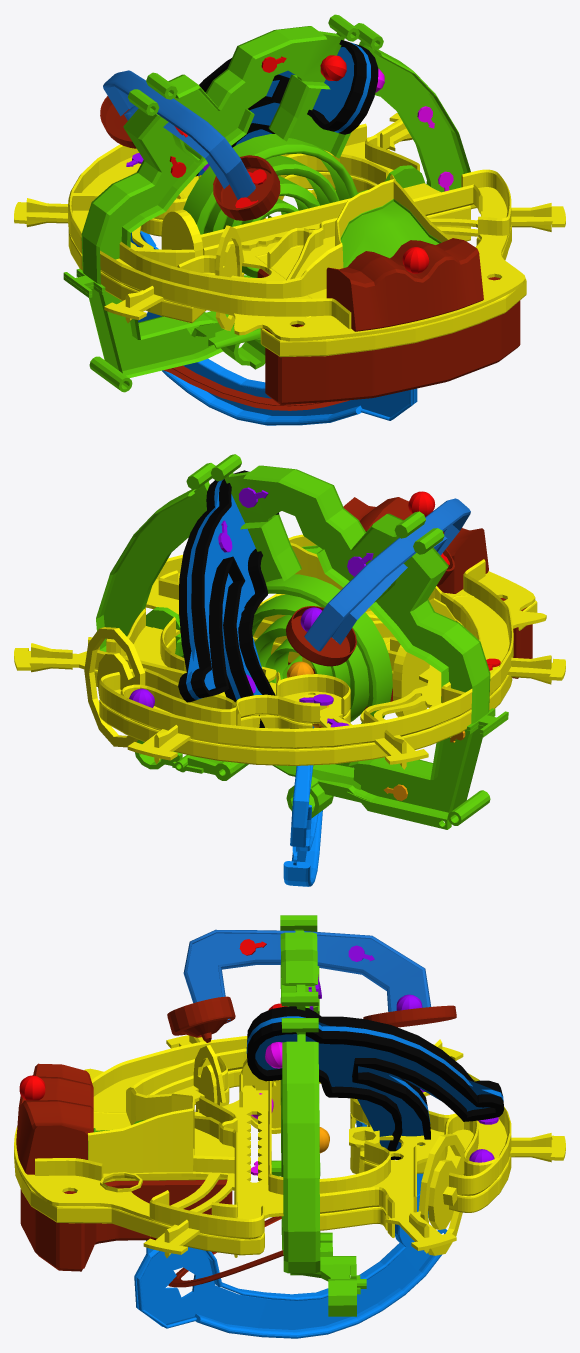
File: Maze_Ball_Test_13.0.fbx
3 views of the same model, one above another, from view 1: azimuth 30°, elevation 25°; view 2: azimuth 150°, elevation 25°; view 3: azimuth 270°, elevation 25° (orthographic).
Visible parts, largest first — view 1: Yellow, Green, Back_Red_Part, Start_Red_Part, Blue, Blue_Part, Block, Blue_Part_3_Wall, Beside, Red_Line, Beside_1, pSphere1 (+1 smaller); view 2: Green, Yellow, Blue_Part, Blue, Start_Red_Part, Blue_Part_3_Wall, Beside_1, Block, Back_Red_Part; view 3: Yellow, Blue, Blue_Part, Green, Block, Start_Red_Part, Back_Red_Part, Blue_Part_3_Wall, Beside, Beside_1, Red_Line, pSphere1.
Boxes of the visible parts, x1,y1,x2,y2 form: Yellow: [14, 113, 565, 356]; Green: [63, 14, 470, 392]; Back_Red_Part: [257, 269, 520, 404]; Start_Red_Part: [326, 238, 483, 331]; Blue: [103, 70, 415, 419]; Blue_Part: [195, 40, 378, 176]; Block: [335, 178, 450, 267]; Blue_Part_3_Wall: [140, 231, 417, 425]; Beside: [213, 155, 280, 220]; Red_Line: [164, 365, 349, 410]; Beside_1: [100, 96, 136, 148]; pSphere1: [402, 247, 429, 273]; Green: [96, 454, 508, 829]; Yellow: [14, 555, 565, 769]; Blue_Part: [178, 470, 278, 727]; Blue: [292, 498, 470, 865]; Start_Red_Part: [343, 497, 488, 593]; Blue_Part_3_Wall: [283, 726, 322, 886]; Beside_1: [286, 606, 356, 666]; Block: [262, 534, 370, 611]; Back_Red_Part: [288, 598, 532, 710]; Yellow: [14, 1035, 565, 1258]; Blue: [134, 929, 447, 1329]; Blue_Part: [246, 1006, 504, 1159]; Green: [271, 915, 366, 1316]; Block: [87, 1093, 234, 1173]; Start_Red_Part: [16, 1063, 93, 1174]; Back_Red_Part: [20, 1179, 232, 1271]; Blue_Part_3_Wall: [134, 1120, 442, 1338]; Beside: [167, 996, 235, 1042]; Beside_1: [363, 1005, 456, 1027]; Red_Line: [168, 1216, 283, 1287]; pSphere1: [19, 1075, 45, 1100].
Size of the model in its own units: 24.97 by 20.43 by 26.62.
